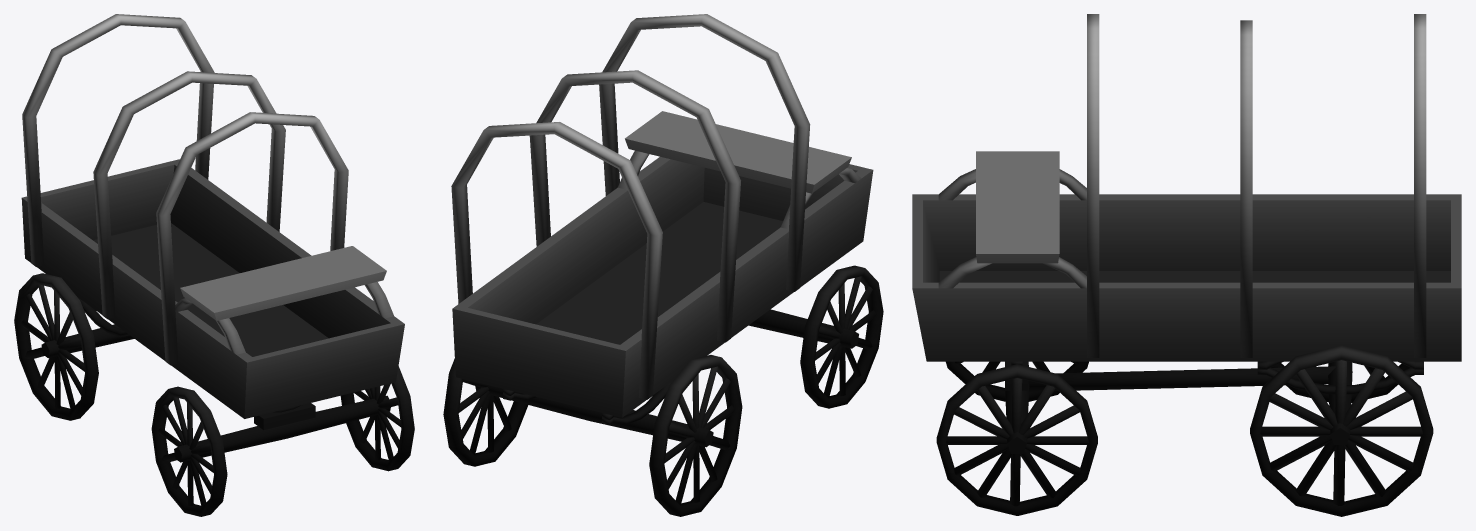
File: Cover2.glb
3 views of the same model, side by side, from view 1: azimuth 30°, elevation 25°; view 2: azimuth 150°, elevation 25°; view 3: azimuth 270°, elevation 25° (orthographic). The views are drawn at different scales.
Parts seen in each view (by area): view 1: Cover2; view 2: Cover2; view 3: Cover2.
Boxes of the visible parts, box(x1,y1,x2,y2) form: Cover2: box(14, 14, 414, 516); Cover2: box(443, 14, 883, 516); Cover2: box(912, 14, 1461, 516).
Size of what is drawn, in the model's own units: 3.2 by 5.15 by 5.96.
1 material, 1 textured.
